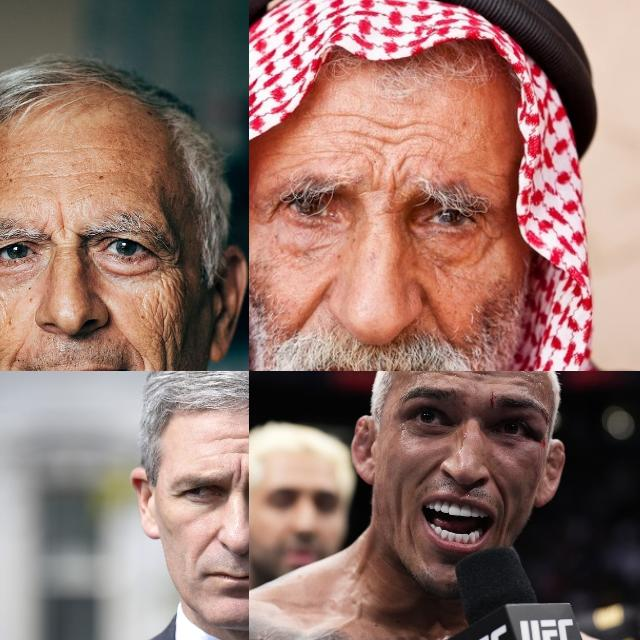crows_feet: (477, 216, 505, 254), (154, 250, 182, 286), (252, 194, 284, 223)
forehead: (355, 109, 411, 158), (31, 167, 90, 187), (96, 136, 132, 162), (34, 146, 82, 162), (210, 428, 249, 446), (467, 371, 492, 388), (414, 371, 452, 379), (228, 446, 249, 459)
frown_line: (368, 167, 404, 203), (51, 205, 73, 239), (232, 464, 248, 488)
gummy_smile: (291, 281, 331, 335), (419, 288, 447, 336), (121, 330, 149, 364), (194, 530, 218, 560), (492, 480, 512, 514), (417, 462, 437, 488)
masseter: (142, 290, 182, 324), (149, 334, 179, 371), (406, 524, 416, 552)
